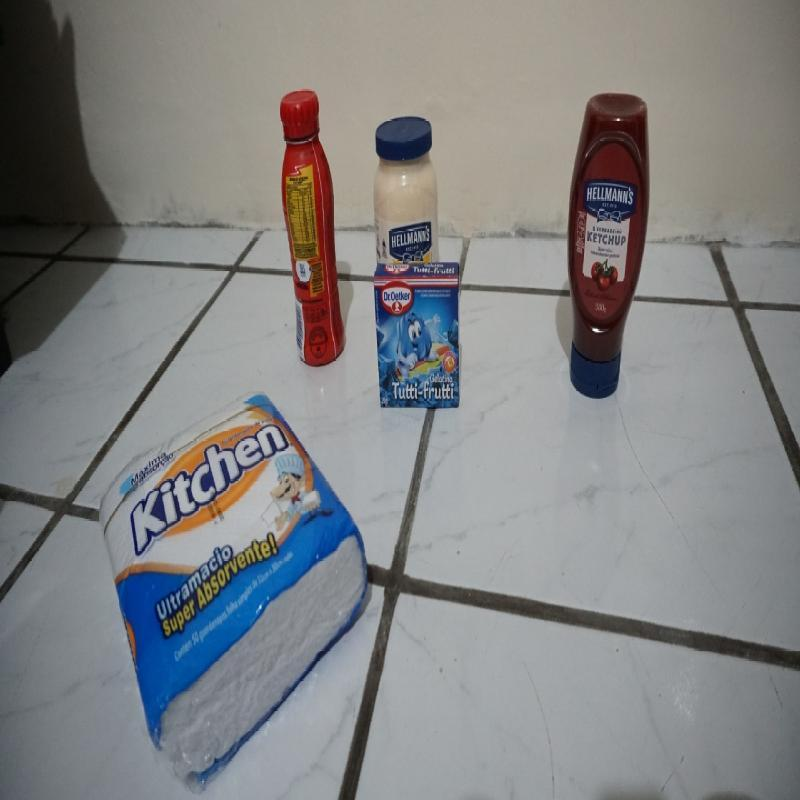Chocolate Milk: (279, 86, 346, 365)
Gelatine: (369, 262, 465, 411)
Ketchup: (565, 90, 650, 399)
Mayonnaise: (374, 110, 444, 268)
Napkin: (100, 388, 375, 792)
